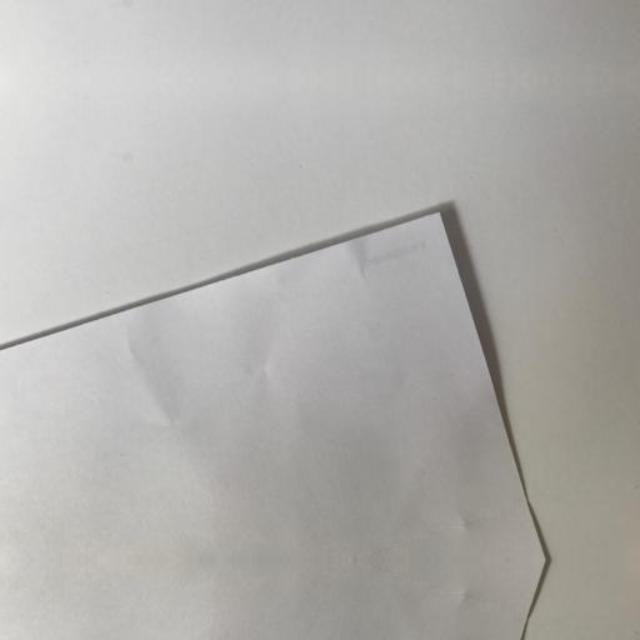paper: (0, 210, 542, 558), (0, 561, 542, 640)
